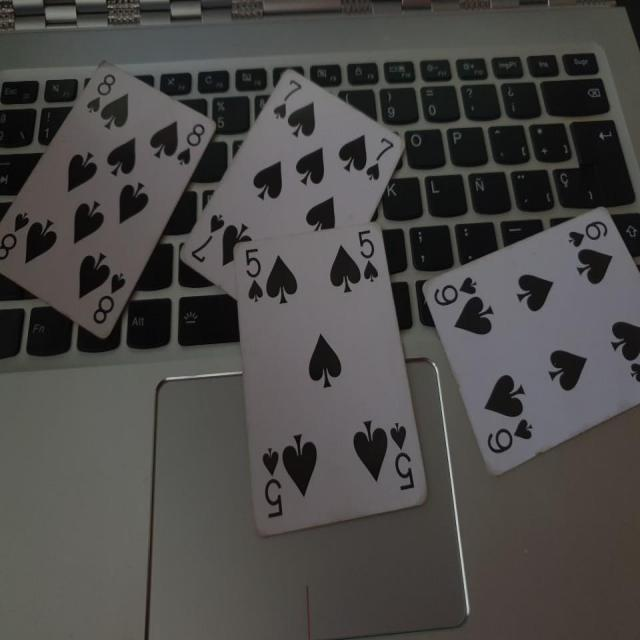5 Spades: (227, 227, 432, 541)
6 Spades: (415, 188, 640, 480)
7 Spades: (171, 62, 411, 338)
8 Spades: (1, 55, 219, 344)
